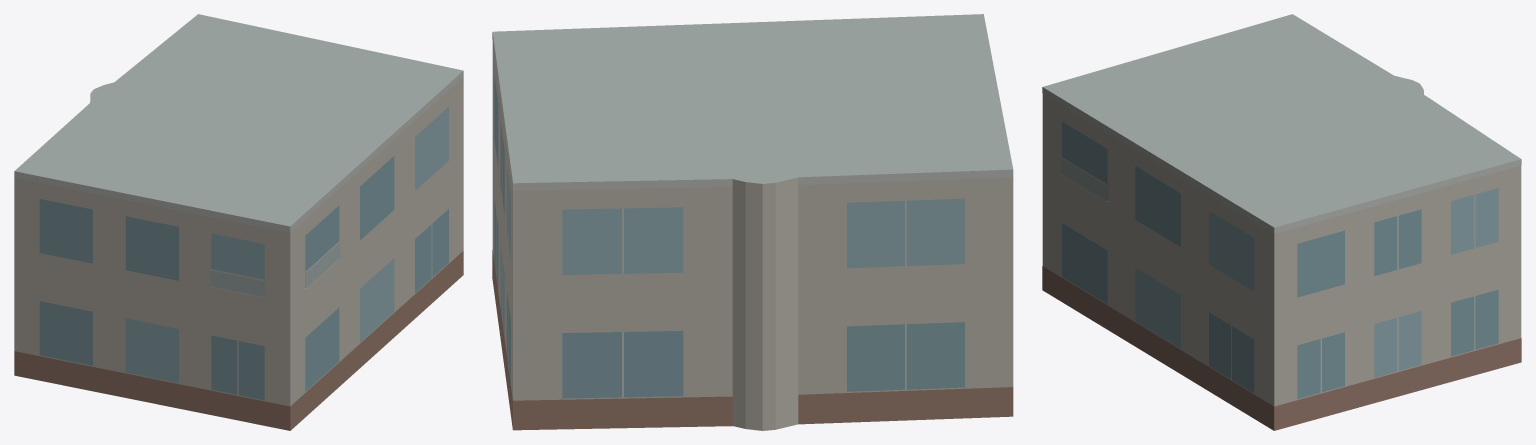
Rendered from survey-upis-33037661.glb.
The picture shows the model from 3 angles, left to right: view 1: azimuth 30°, elevation 25°; view 2: azimuth 150°, elevation 25°; view 3: azimuth 270°, elevation 25°; orthographic projection. The views are drawn at different scales.
Parts seen in each view (by area): view 1: survey-upis-33037661.tmp; view 2: survey-upis-33037661.tmp; view 3: survey-upis-33037661.tmp.
Part boxes in pixels (bbox=[...]): survey-upis-33037661.tmp: bbox=[14, 14, 463, 430]; survey-upis-33037661.tmp: bbox=[492, 14, 1013, 430]; survey-upis-33037661.tmp: bbox=[1042, 14, 1521, 430].
Size of the model in its own units: 17.59 by 7.8 by 16.67.
